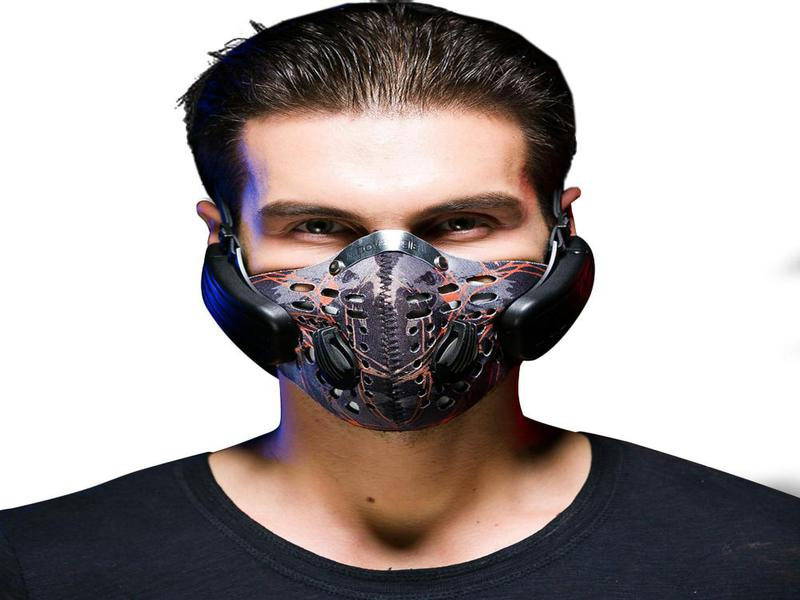with_mask: (198, 98, 592, 435)
